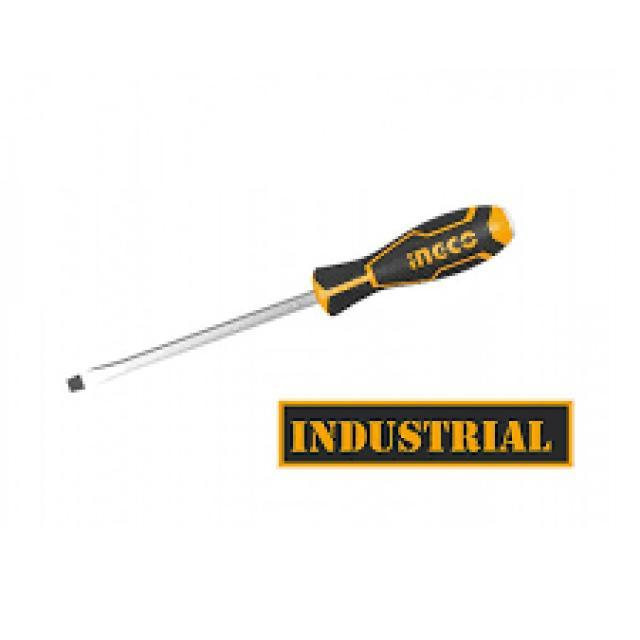screwdriver: (58, 200, 530, 400)
